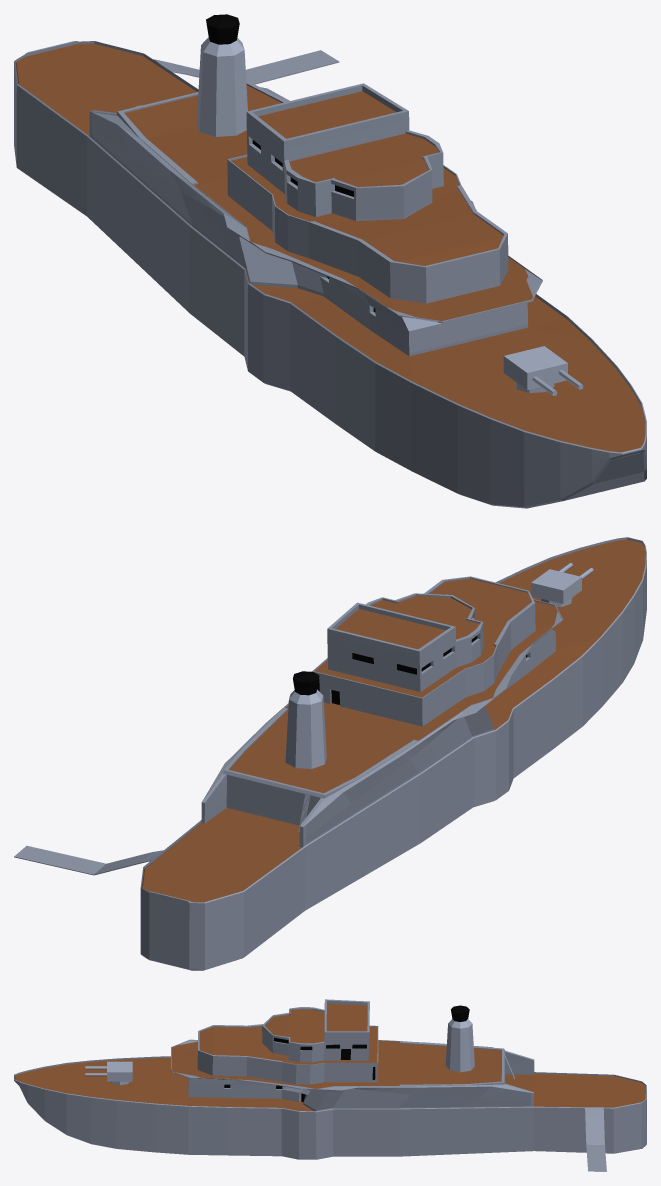
File: BuqueLOD_1.fbx
3 renders of one model, top to bottom at view 1: azimuth 30°, elevation 25°; view 2: azimuth 150°, elevation 25°; view 3: azimuth 270°, elevation 25°, orthographic. The views are drawn at different scales.
Visible parts, largest first — view 1: Cylinder.004; view 2: Cylinder.004; view 3: Cylinder.004.
Boxes of the visible parts, x1,y1,x2,y2 form: Cylinder.004: (14, 14, 646, 508); Cylinder.004: (14, 537, 646, 970); Cylinder.004: (14, 999, 646, 1171).
Bounding box in the file's own units: 5471 × 3721 × 16186.
